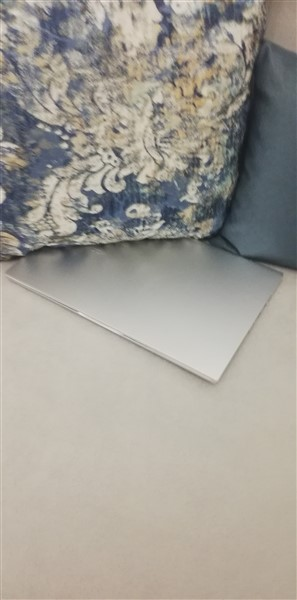laptop: (3, 214, 292, 390)
